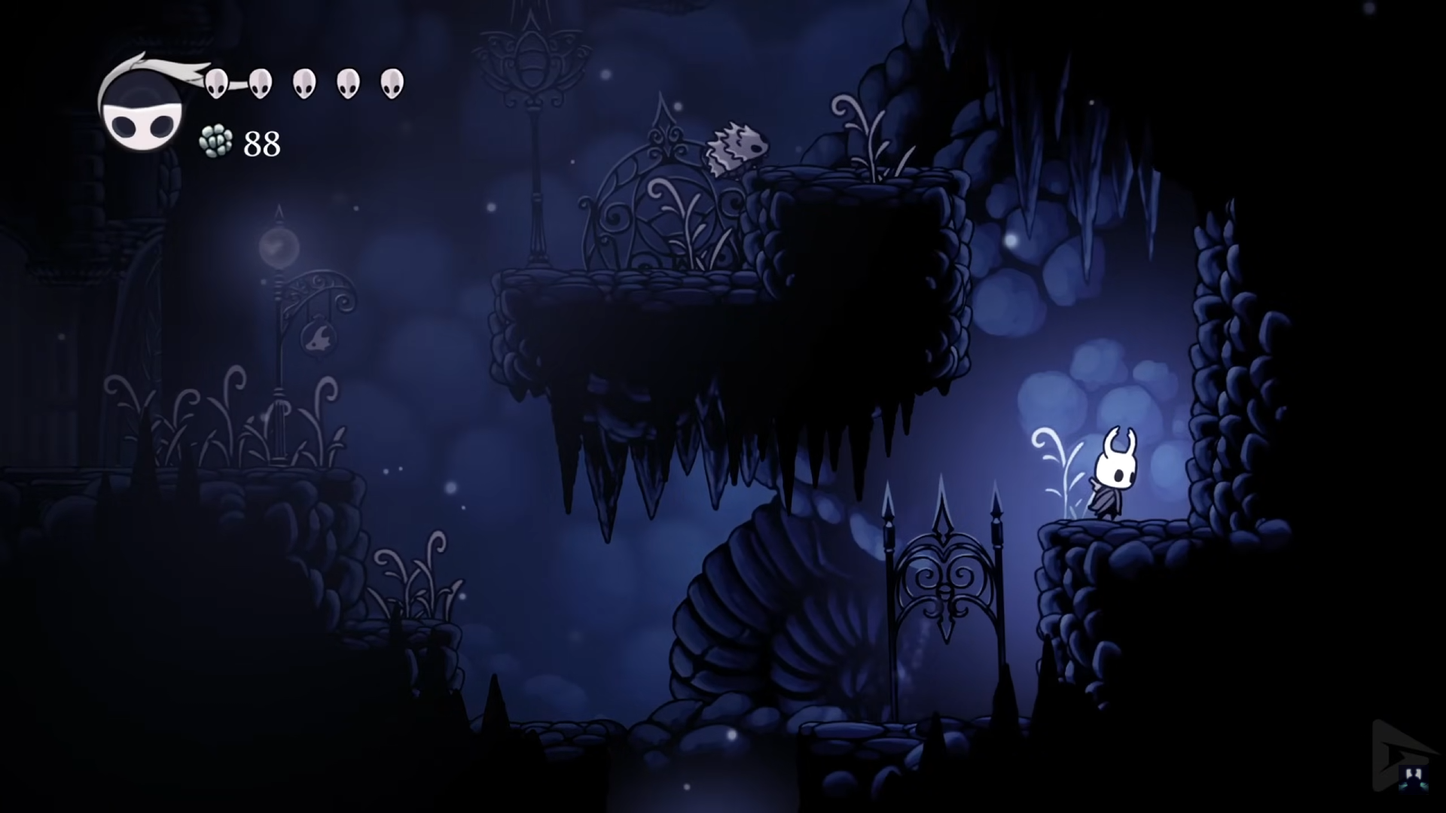HK: (1085, 422, 1140, 525)
